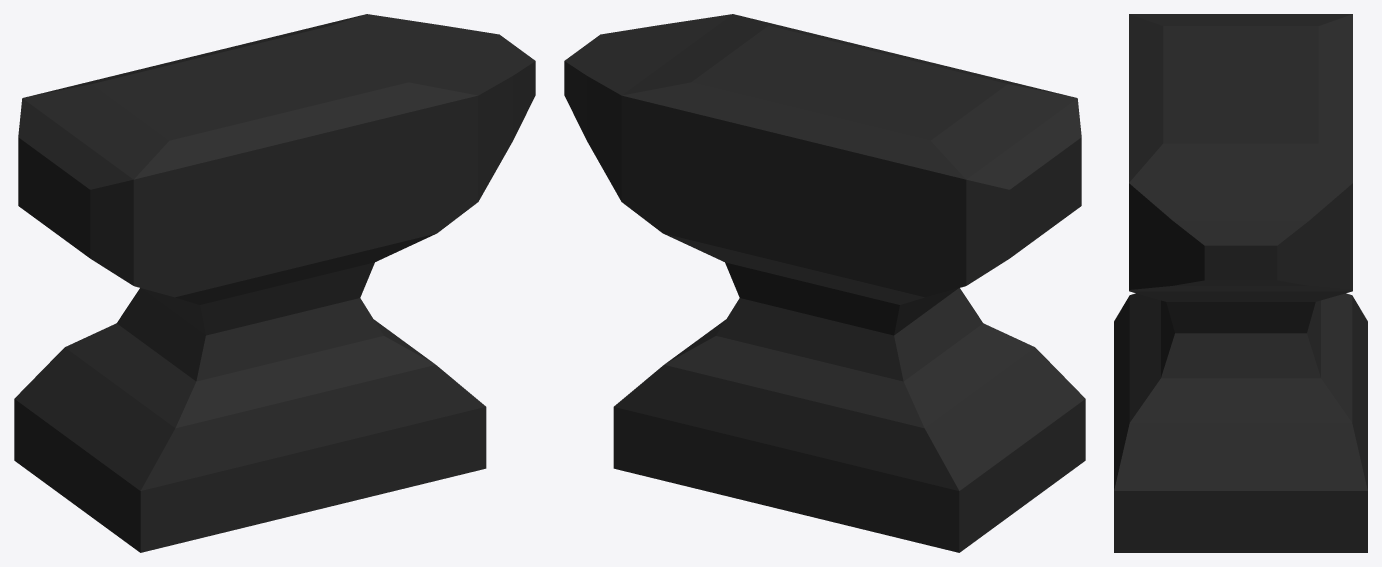
Rendered from anvil.fbx.
3 views of the same model, side by side, from view 1: azimuth 30°, elevation 25°; view 2: azimuth 150°, elevation 25°; view 3: azimuth 270°, elevation 25° (orthographic).
Visible parts, largest first — view 1: anvil; view 2: anvil; view 3: anvil.
Boxes of the visible parts, <box> form: anvil: <box>14,14,535,552</box>; anvil: <box>564,14,1085,552</box>; anvil: <box>1114,14,1367,552</box>.
Bounding box in the file's own units: 268 × 211 × 126.
1 material, 1 textured.
